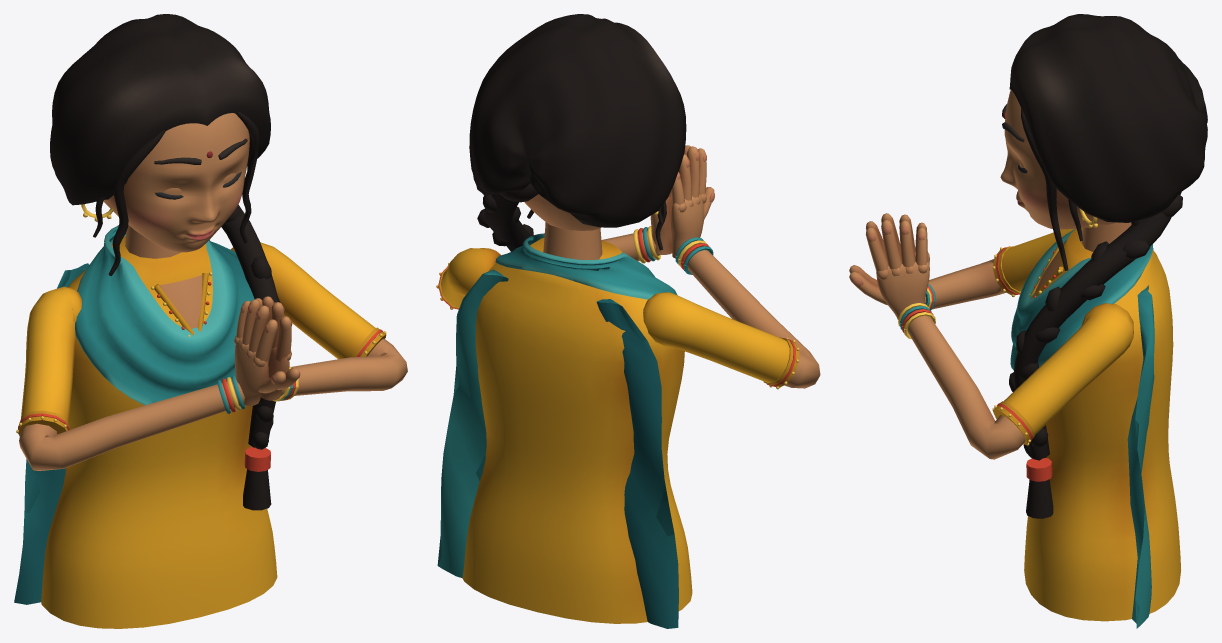
Rendered from rani_namaste.glb.
The picture shows the model from 3 angles, left to right: view 1: azimuth 30°, elevation 25°; view 2: azimuth 150°, elevation 25°; view 3: azimuth 270°, elevation 25°; orthographic projection. The views are drawn at different scales.
Visible parts, largest first — view 1: body, head, arm_r, arm_l; view 2: body, head, arm_r, arm_l; view 3: body, head, arm_l, arm_r.
Part boxes in pixels (x1,y1,x2,y2): body: [14, 204, 280, 628]; head: [50, 14, 270, 275]; arm_r: [16, 286, 285, 470]; arm_l: [231, 242, 407, 401]; body: [437, 183, 692, 628]; head: [469, 14, 686, 250]; arm_r: [643, 146, 820, 389]; arm_l: [436, 145, 690, 309]; body: [1009, 192, 1182, 628]; head: [1000, 14, 1207, 270]; arm_l: [849, 220, 1133, 459]; arm_r: [849, 213, 1074, 310].
Size of the model in its own units: 0.9088 by 1.3 by 0.774.
Materials: 1 (1 with a texture image).
